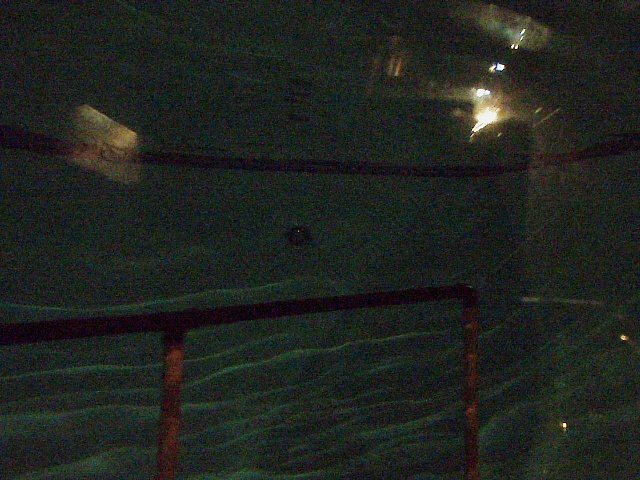Gate: (153, 333, 189, 480), (460, 299, 483, 480)
